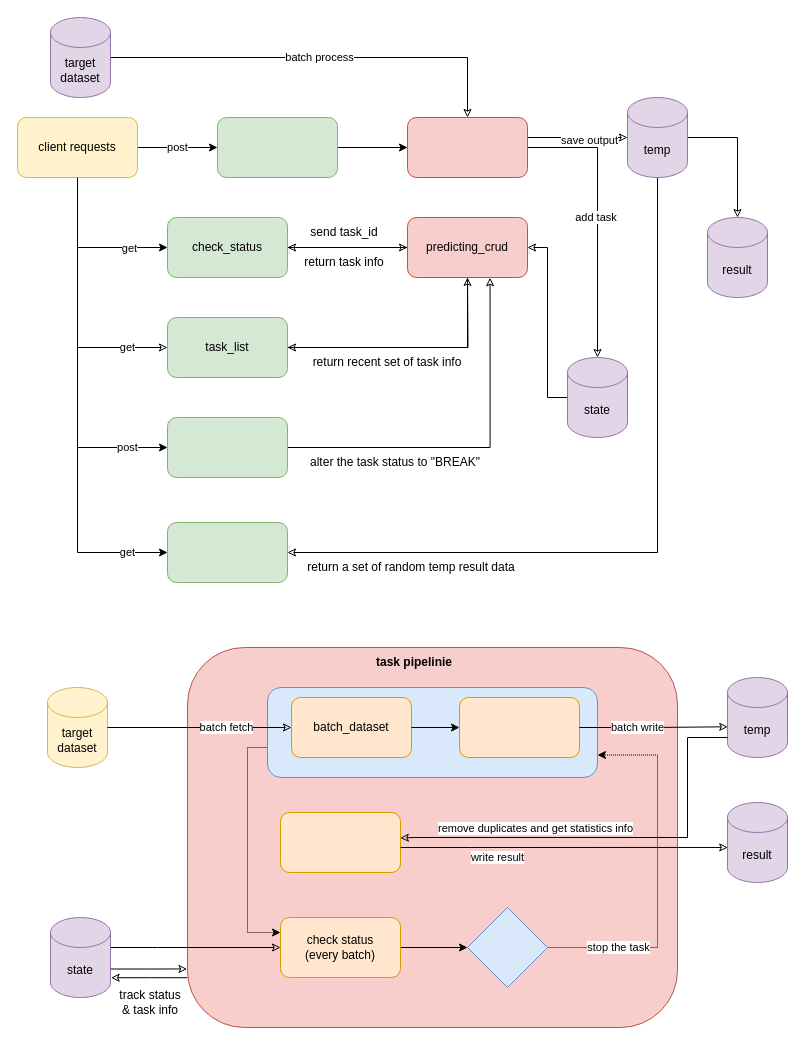
This 805x1045 diagram has some shape labels left out. The shapes that lost their labels are listed below. From the top down, each one's box as (x1, y1, x2, y2) in pixels, then its label:
(216, 116, 338, 178): create_task
(406, 116, 528, 178): task_pipline
(166, 416, 288, 478): abort_task
(166, 522, 288, 582): sample_result
(458, 696, 580, 758): predicting & cleaning
(280, 812, 400, 872): generate_production
(466, 906, 548, 988): if BREAK
